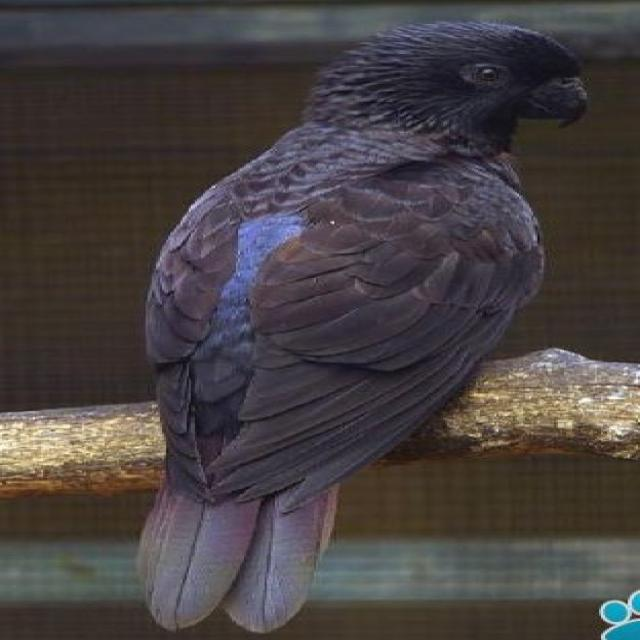Nuri Hitam: (101, 2, 614, 640)
